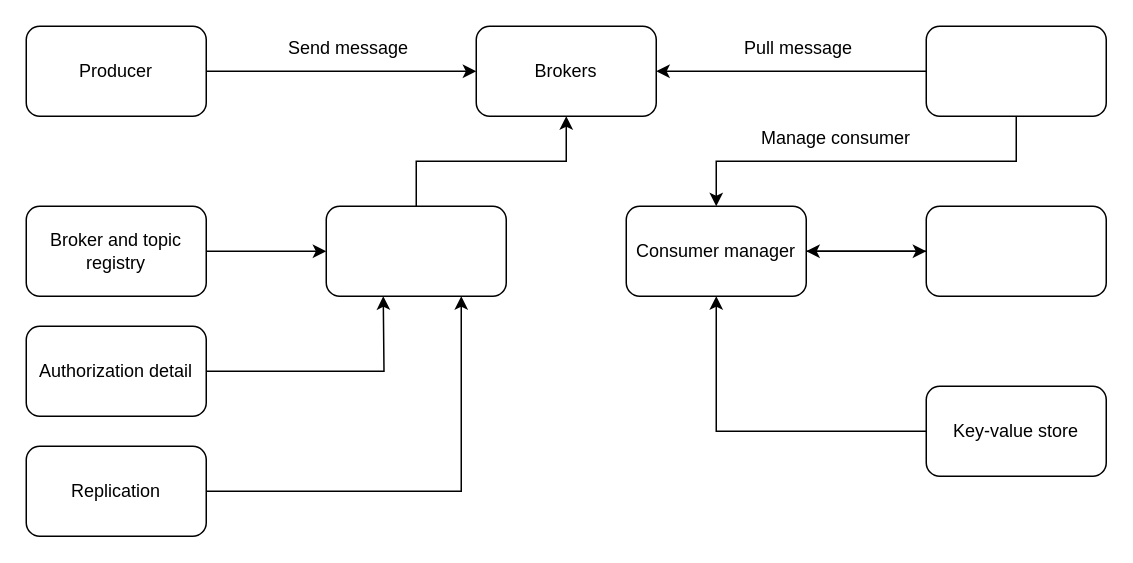
The diagram is 1133 pixels wide and 563 high, and some of its shapes have lost their labels. The shapes that lost their labels are listed below. From the top down, each one's centre as x and y in pixels, then its label:
At pixel 1015 70: "Consumer".
At pixel 415 250: "Cluster manager".
At pixel 1015 250: "Storage".
